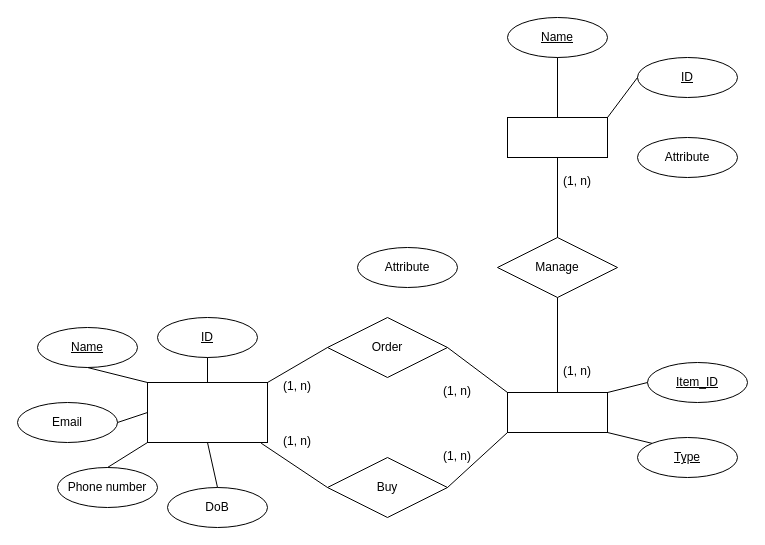
Image size: 765x545. Some labels were removed from this diagram. The centre of each missing label's shape, as x and y in pixels:
"Customer" belongs at [207,412].
"Employee (Warehouse)" belongs at [557,137].
"Product" belongs at [557,412].
